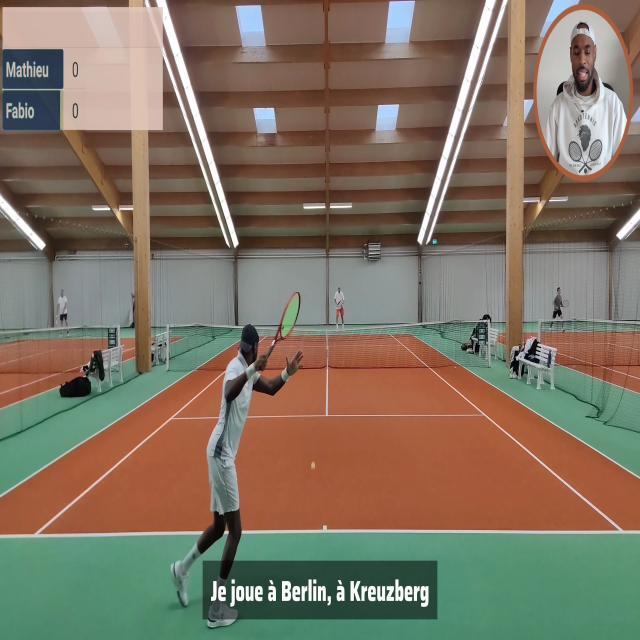ball: (310, 460, 316, 470)
